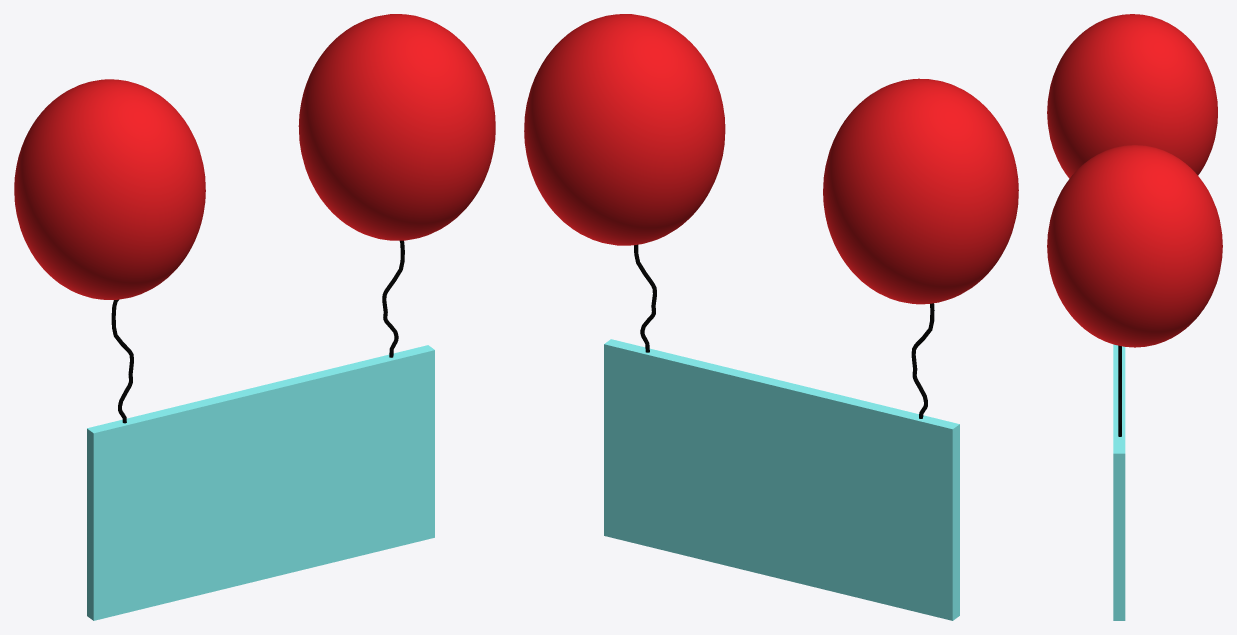
File: Banner.fbx
The picture shows the model from 3 angles, left to right: view 1: azimuth 30°, elevation 25°; view 2: azimuth 150°, elevation 25°; view 3: azimuth 270°, elevation 25°; orthographic projection. The views are drawn at different scales.
Parts seen in each view (by area): view 1: root (×3); view 2: root (×3); view 3: root (×4).
Boxes of the visible parts, x1,y1,x2,y2 form: root (×3): (14, 14, 495, 620); root (×3): (524, 14, 1018, 620); root (×4): (1047, 14, 1222, 620).
Size of the model in its own units: 0.4294 by 0.4664 by 0.1604.
Materials: 5 (5 with a texture image).
